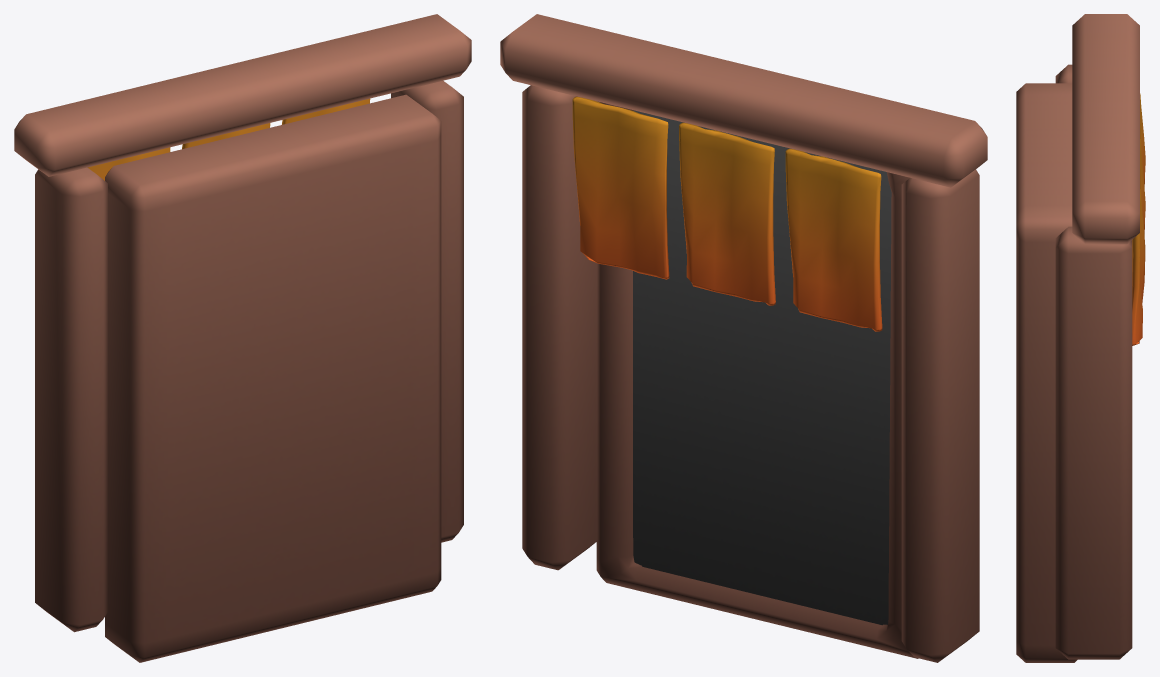
Rendered from SM_Wood_Door_06.fbx.
The picture shows the model from 3 angles, left to right: view 1: azimuth 30°, elevation 25°; view 2: azimuth 150°, elevation 25°; view 3: azimuth 270°, elevation 25°; orthographic projection. The views are drawn at different scales.
Parts seen in each view (by area): view 1: SM_Wood_Door_06; view 2: SM_Wood_Door_06; view 3: SM_Wood_Door_06.
Boxes of the visible parts, left/top/right/bottom form: SM_Wood_Door_06: left=14, top=14, right=471, bottom=662; SM_Wood_Door_06: left=500, top=14, right=987, bottom=662; SM_Wood_Door_06: left=1016, top=14, right=1145, bottom=662.
Bounding box in the file's own units: 0.5486 × 0.6312 × 0.1517.
